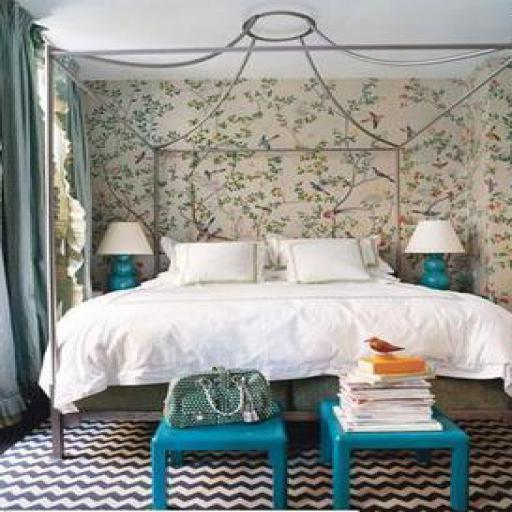bed: (47, 192, 512, 422)
